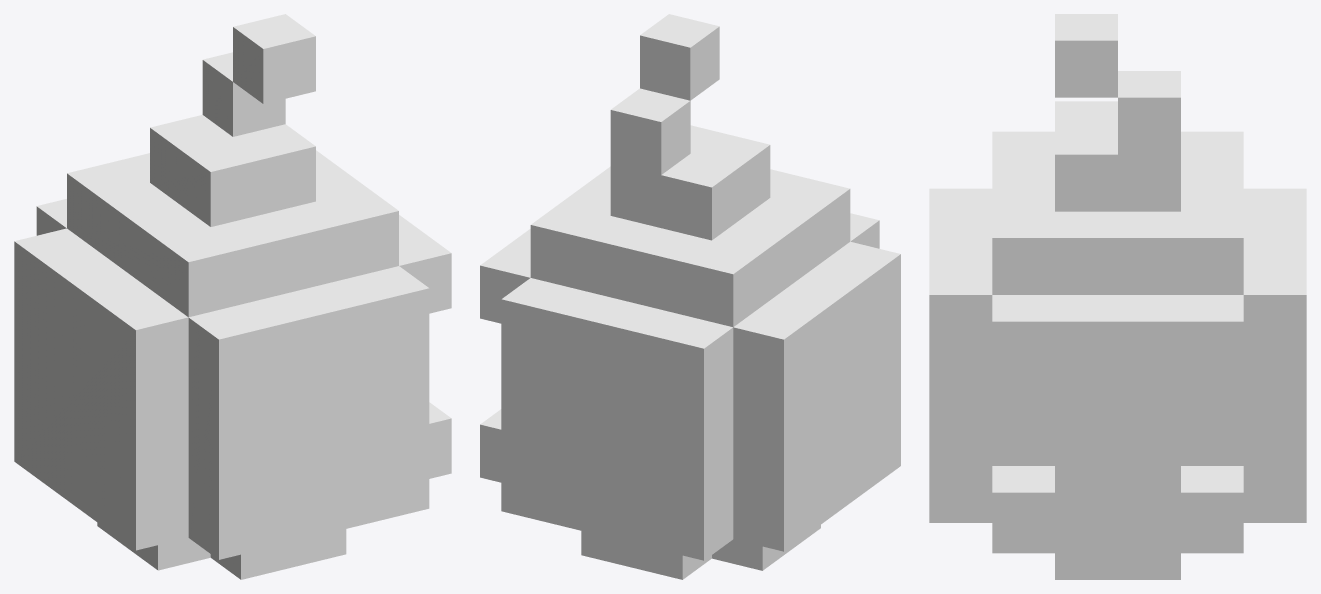
File: soul(m).obj
3 views of the same model, side by side, from view 1: azimuth 30°, elevation 25°; view 2: azimuth 150°, elevation 25°; view 3: azimuth 270°, elevation 25° (orthographic). The views are drawn at different scales.
Bounding box in the file's own units: 0.6 × 0.9 × 0.6.
Materials: 1 (1 with a texture image).
